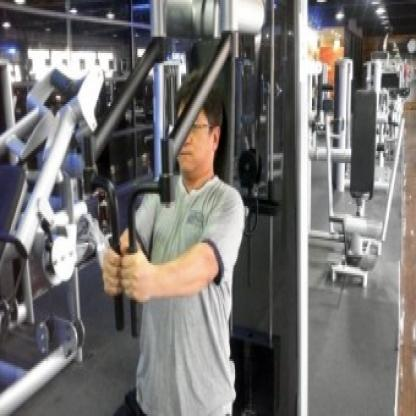chest fly machine: (67, 0, 298, 416)
